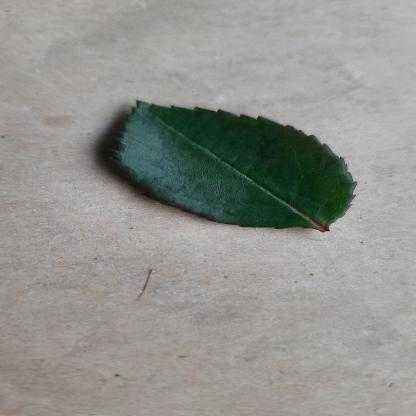normal: (105, 93, 352, 235)
